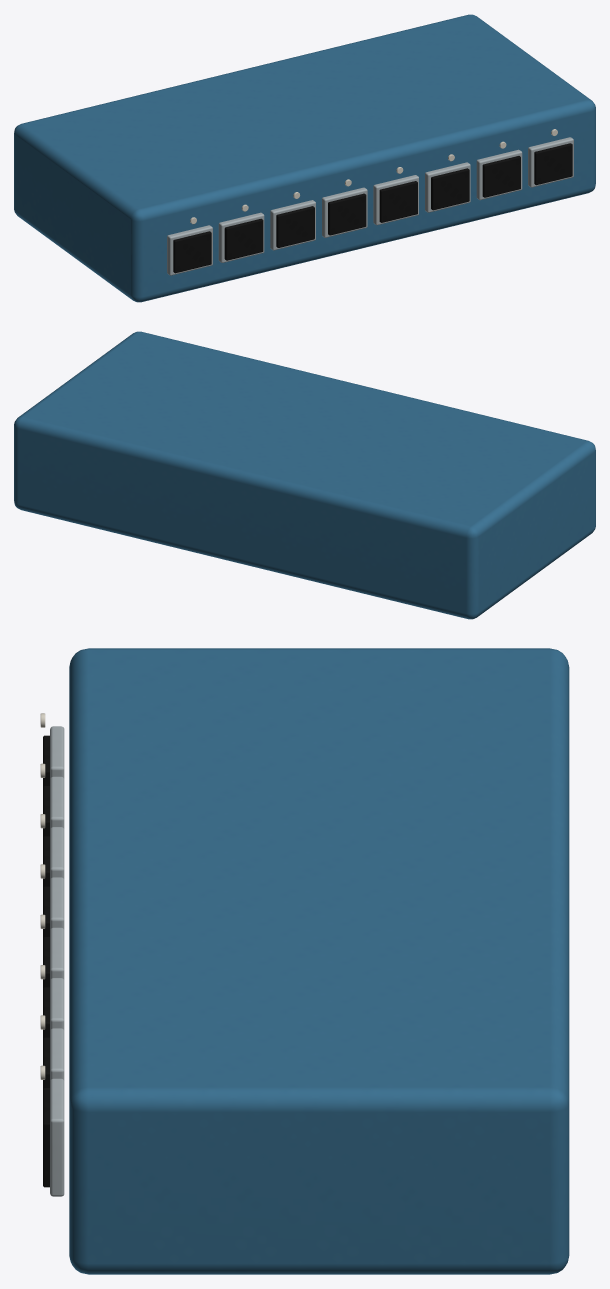
The model's file is eight-port-network-switch.glb.
3 views of the same model, one above another, from view 1: azimuth 30°, elevation 25°; view 2: azimuth 150°, elevation 25°; view 3: azimuth 270°, elevation 25° (orthographic). The views are drawn at different scales.
Parts seen in each view (by area): view 1: Network switch steel case, Dark connector opening.001, Dark connector opening.003, Dark connector opening.005, Dark connector opening, Dark connector opening.002, Dark connector opening.004, Dark connector opening.006, Dark connector opening.007, Port surround.001, Port surround.006, Port surround (+5 smaller); view 2: Network switch steel case; view 3: Network switch steel case, Port surround.007.
Boxes of the visible parts, x1,y1,x2,y2 form: Network switch steel case: [14, 14, 595, 302]; Dark connector opening.001: [224, 218, 263, 260]; Dark connector opening.003: [328, 193, 366, 235]; Dark connector opening.005: [431, 168, 469, 210]; Dark connector opening: [173, 231, 211, 273]; Dark connector opening.002: [276, 206, 314, 247]; Dark connector opening.004: [379, 181, 417, 222]; Dark connector opening.006: [482, 156, 520, 197]; Dark connector opening.007: [534, 143, 572, 185]; Port surround.001: [218, 212, 264, 262]; Port surround.006: [476, 149, 522, 200]; Port surround: [167, 225, 212, 275]; Network switch steel case: [14, 331, 595, 619]; Network switch steel case: [69, 648, 569, 1274]; Port surround.007: [50, 1078, 64, 1196].
Size of the model in its own units: 0.225 by 0.043 by 0.111.
Materials: 4 (4 with a texture image).
